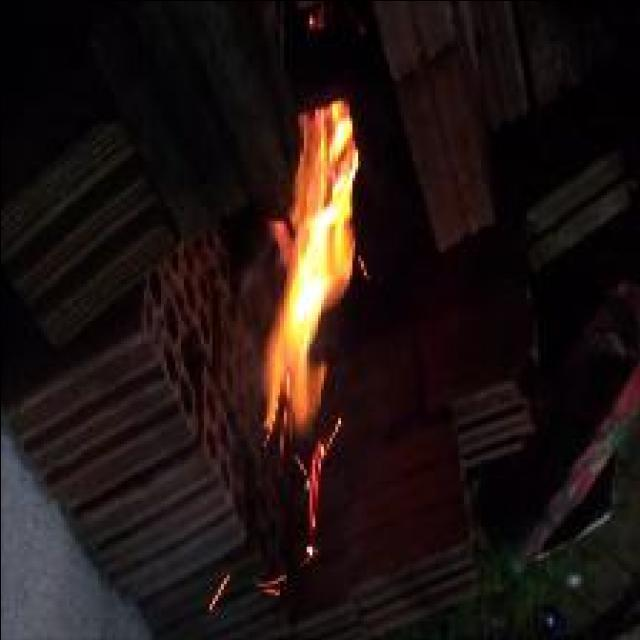Fire: (262, 98, 364, 536)
